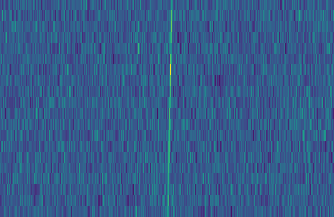signal: (162, 0, 175, 217)
